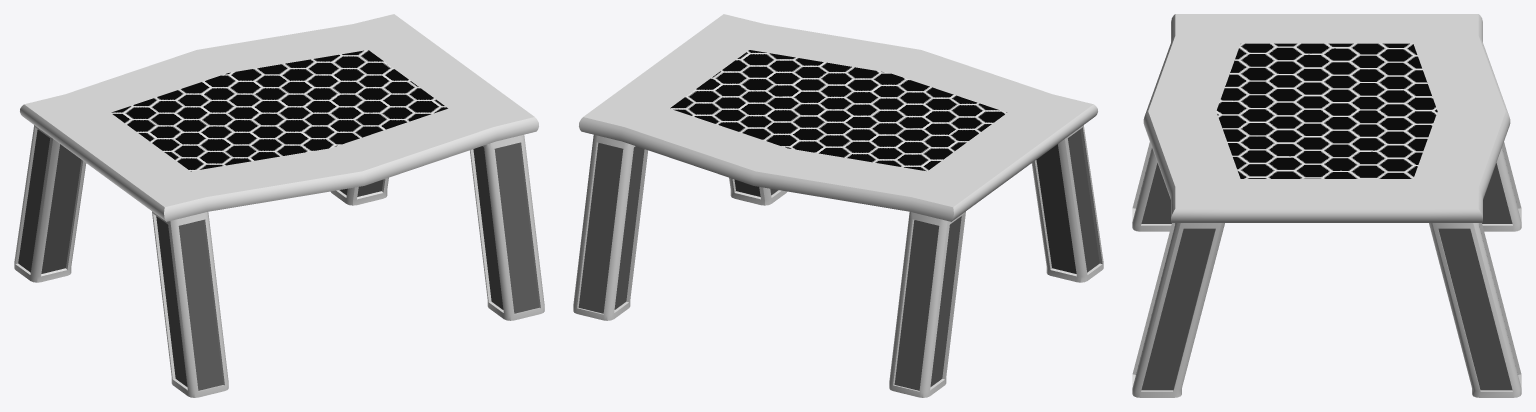
Rendered from table3.glb.
3 renders of one model, left to right at view 1: azimuth 30°, elevation 25°; view 2: azimuth 150°, elevation 25°; view 3: azimuth 270°, elevation 25°, orthographic. The views are drawn at different scales.
Visible parts, largest first — view 1: table.001, table, table_light; view 2: table.001, table, table_light; view 3: table.001, table, table_light.
Boxes of the visible parts, bbox=[...] form: table.001: bbox=[14, 14, 544, 397]; table: bbox=[111, 50, 447, 171]; table_light: bbox=[97, 44, 461, 176]; table.001: bbox=[573, 14, 1103, 397]; table: bbox=[670, 50, 1006, 171]; table_light: bbox=[656, 44, 1020, 176]; table.001: bbox=[1132, 14, 1521, 397]; table: bbox=[1216, 43, 1437, 178]; table_light: bbox=[1204, 38, 1449, 183].
Size of the model in its own units: 4.86 by 2.22 by 4.05.
Materials: 4 (1 with a texture image).
